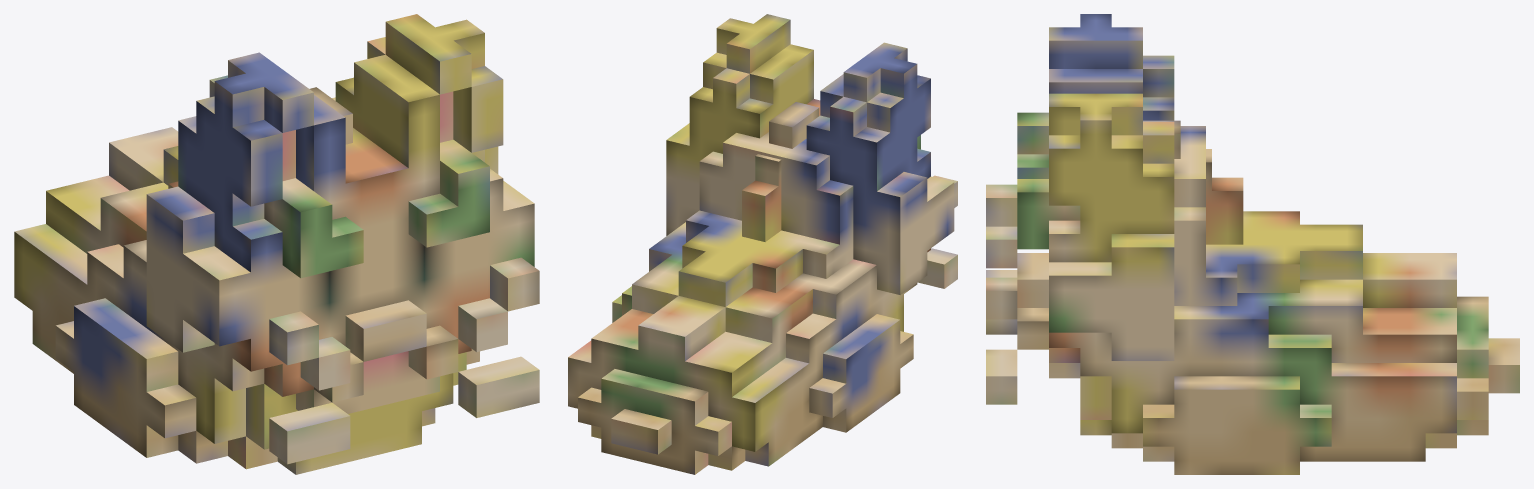
The model's file is skin_18.fbx.
The picture shows the model from 3 angles, left to right: view 1: azimuth 30°, elevation 25°; view 2: azimuth 150°, elevation 25°; view 3: azimuth 270°, elevation 25°; orthographic projection. The views are drawn at different scales.
Visible parts, largest first — view 1: skin_18-5, skin_18-0; view 2: skin_18-5, skin_18-0; view 3: skin_18-5, skin_18-0.
Part boxes in pixels (box(x1,y1,x2,y2)): skin_18-5: box(14, 14, 539, 474); skin_18-0: box(310, 87, 352, 144); skin_18-5: box(568, 14, 957, 474); skin_18-0: box(742, 102, 819, 241); skin_18-5: box(986, 14, 1519, 474); skin_18-0: box(1143, 120, 1243, 244).
Bounding box in the file's own units: 100 × 121 × 170.
